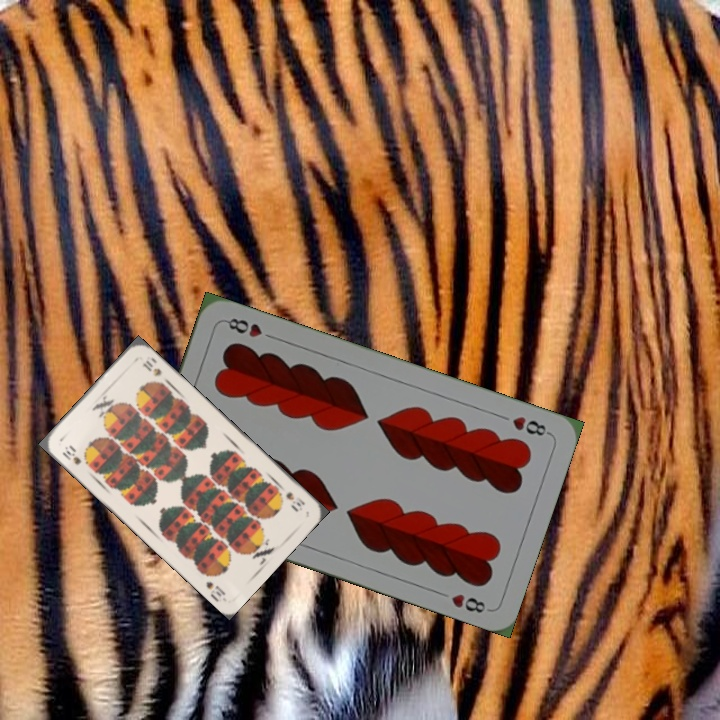H8: (508, 412, 553, 439)
S10: (58, 441, 84, 467), (281, 488, 308, 513)
